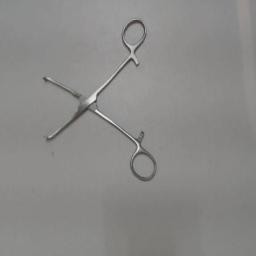Allis Tissue Forceps: (42, 14, 160, 184)
